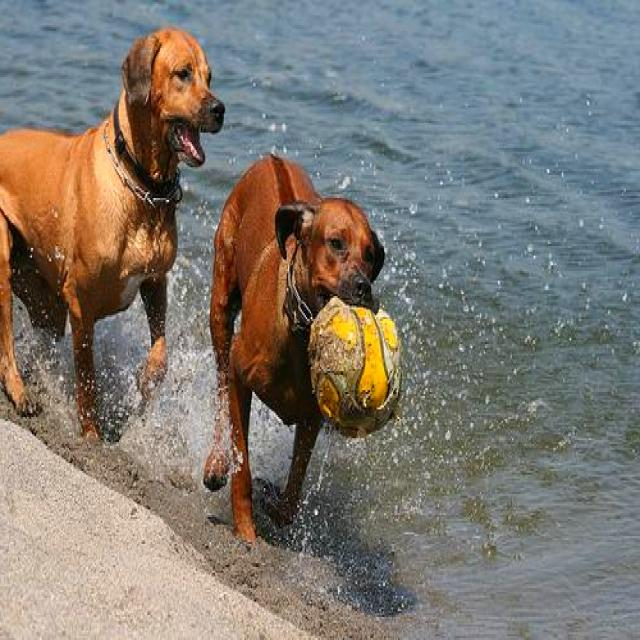rhodesian_ridgeback: (2, 31, 225, 440), (204, 152, 390, 562)
